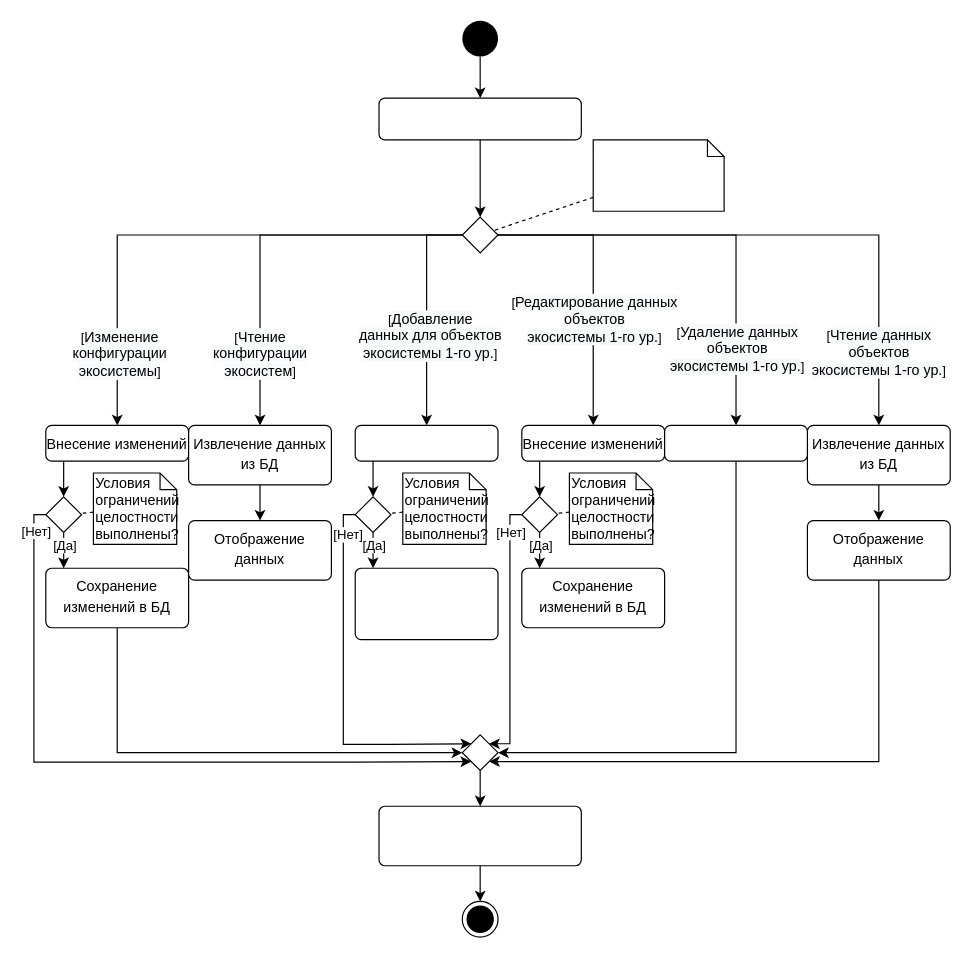
This 971x958 diagram has some shape labels left out. The shapes that lost their labels are listed below. From the top down, each one's centre as x and y in pixels, then its label:
the point at 479,118: Выбор действия
the point at 658,175: Какое действие выбрано?
the point at 426,442: Внесение данных
the point at 735,442: Удаление данных
the point at 426,603: Отправка запроса в компонент регистрации
the point at 479,835: Отображение отчёта об итоге действия
